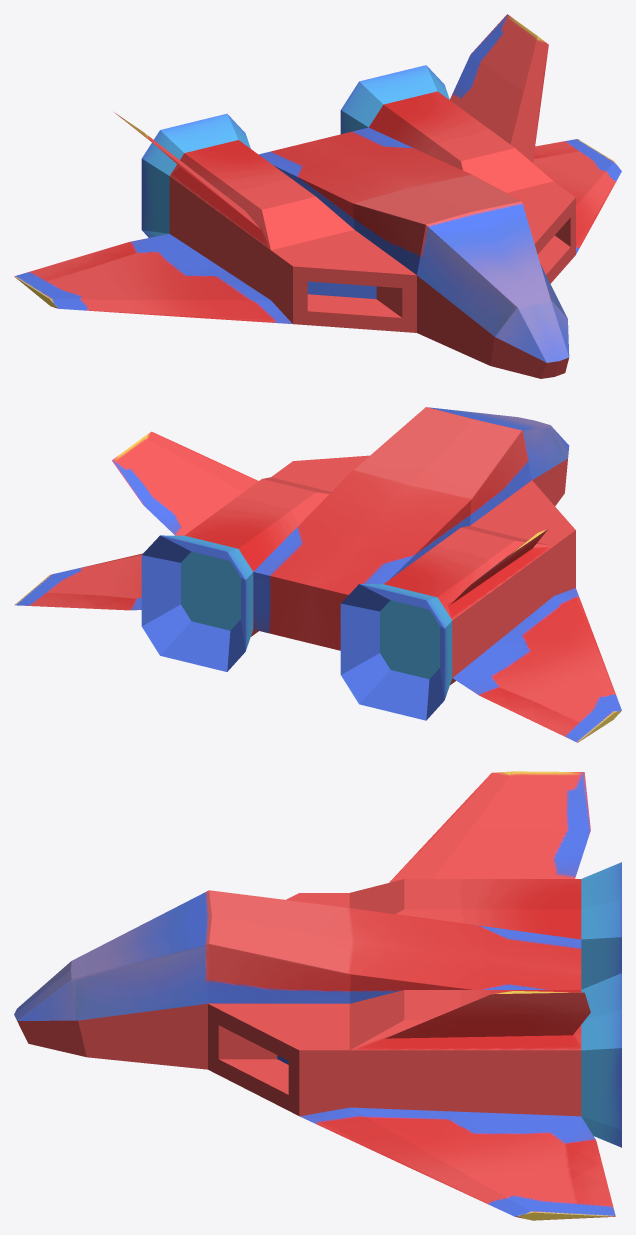
File: SpaceShipRed.fbx
3 renders of one model, top to bottom at view 1: azimuth 30°, elevation 25°; view 2: azimuth 150°, elevation 25°; view 3: azimuth 270°, elevation 25°, orthographic. The views are drawn at different scales.
Parts seen in each view (by area): view 1: Cube; view 2: Cube; view 3: Cube.
Part boxes in pixels (left/top/right/bottom): Cube: left=14, top=14, right=621, bottom=378; Cube: left=14, top=407, right=621, bottom=742; Cube: left=14, top=771, right=621, bottom=1220.
Size of the model in its own units: 399 by 114 by 326.
